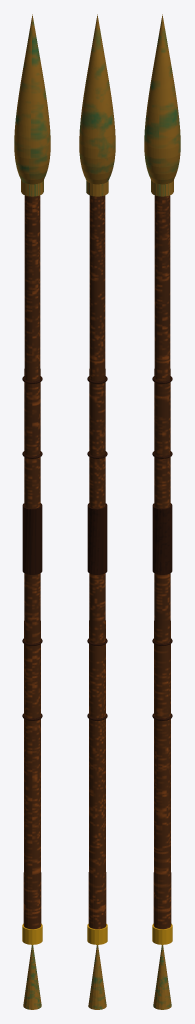
The model's file is lance.glb.
3 views of the same model, side by side, from view 1: azimuth 90°, elevation 25°; view 2: azimuth 210°, elevation 25°; view 3: azimuth 270°, elevation 25° (orthographic).
Parts seen in each view (by area): view 1: Fut, Pointe, Grip, Sauroter, BagueS, Douille; view 2: Fut, Pointe, Grip, Sauroter, BagueS, Douille; view 3: Fut, Pointe, Grip, Sauroter, BagueS, Douille.
Part boxes in pixels (left/top/right/bottom): Fut: left=23, top=195, right=41, bottom=929; Pointe: left=14, top=14, right=50, bottom=184; Grip: left=22, top=503, right=42, bottom=574; Sauroter: left=23, top=945, right=41, bottom=1009; BagueS: left=22, top=923, right=42, bottom=944; Douille: left=21, top=180, right=43, bottom=196; Fut: left=88, top=195, right=106, bottom=929; Pointe: left=79, top=14, right=115, bottom=184; Grip: left=87, top=503, right=107, bottom=574; Sauroter: left=88, top=945, right=106, bottom=1009; BagueS: left=87, top=924, right=107, bottom=944; Douille: left=86, top=181, right=108, bottom=196; Fut: left=153, top=195, right=171, bottom=929; Pointe: left=144, top=14, right=180, bottom=184; Grip: left=152, top=503, right=172, bottom=574; Sauroter: left=153, top=945, right=171, bottom=1009; BagueS: left=152, top=923, right=172, bottom=944; Douille: left=151, top=180, right=173, bottom=196.
Size of the model in its own units: 0.1769 by 5.3 by 0.1769.
4 materials, 4 textured.
